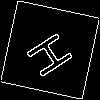H: (25, 25, 83, 80)
